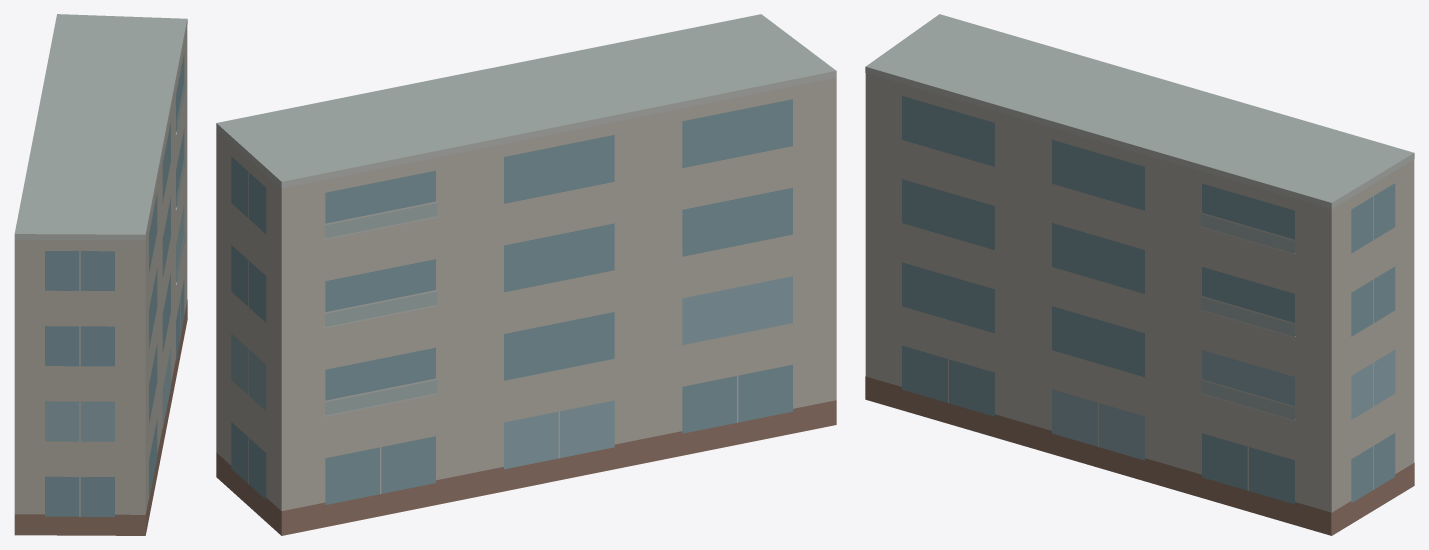
The model's file is survey-upis-32629480.glb.
3 renders of one model, left to right at view 1: azimuth 30°, elevation 25°; view 2: azimuth 150°, elevation 25°; view 3: azimuth 270°, elevation 25°, orthographic. The views are drawn at different scales.
Parts seen in each view (by area): view 1: survey-upis-32629480.tmp; view 2: survey-upis-32629480.tmp; view 3: survey-upis-32629480.tmp.
Boxes of the visible parts, x1,y1,x2,y2 form: survey-upis-32629480.tmp: [14, 14, 187, 535]; survey-upis-32629480.tmp: [216, 14, 836, 535]; survey-upis-32629480.tmp: [865, 14, 1414, 535].
Bounding box in the file's own units: 15.59 × 12.8 × 19.14.
